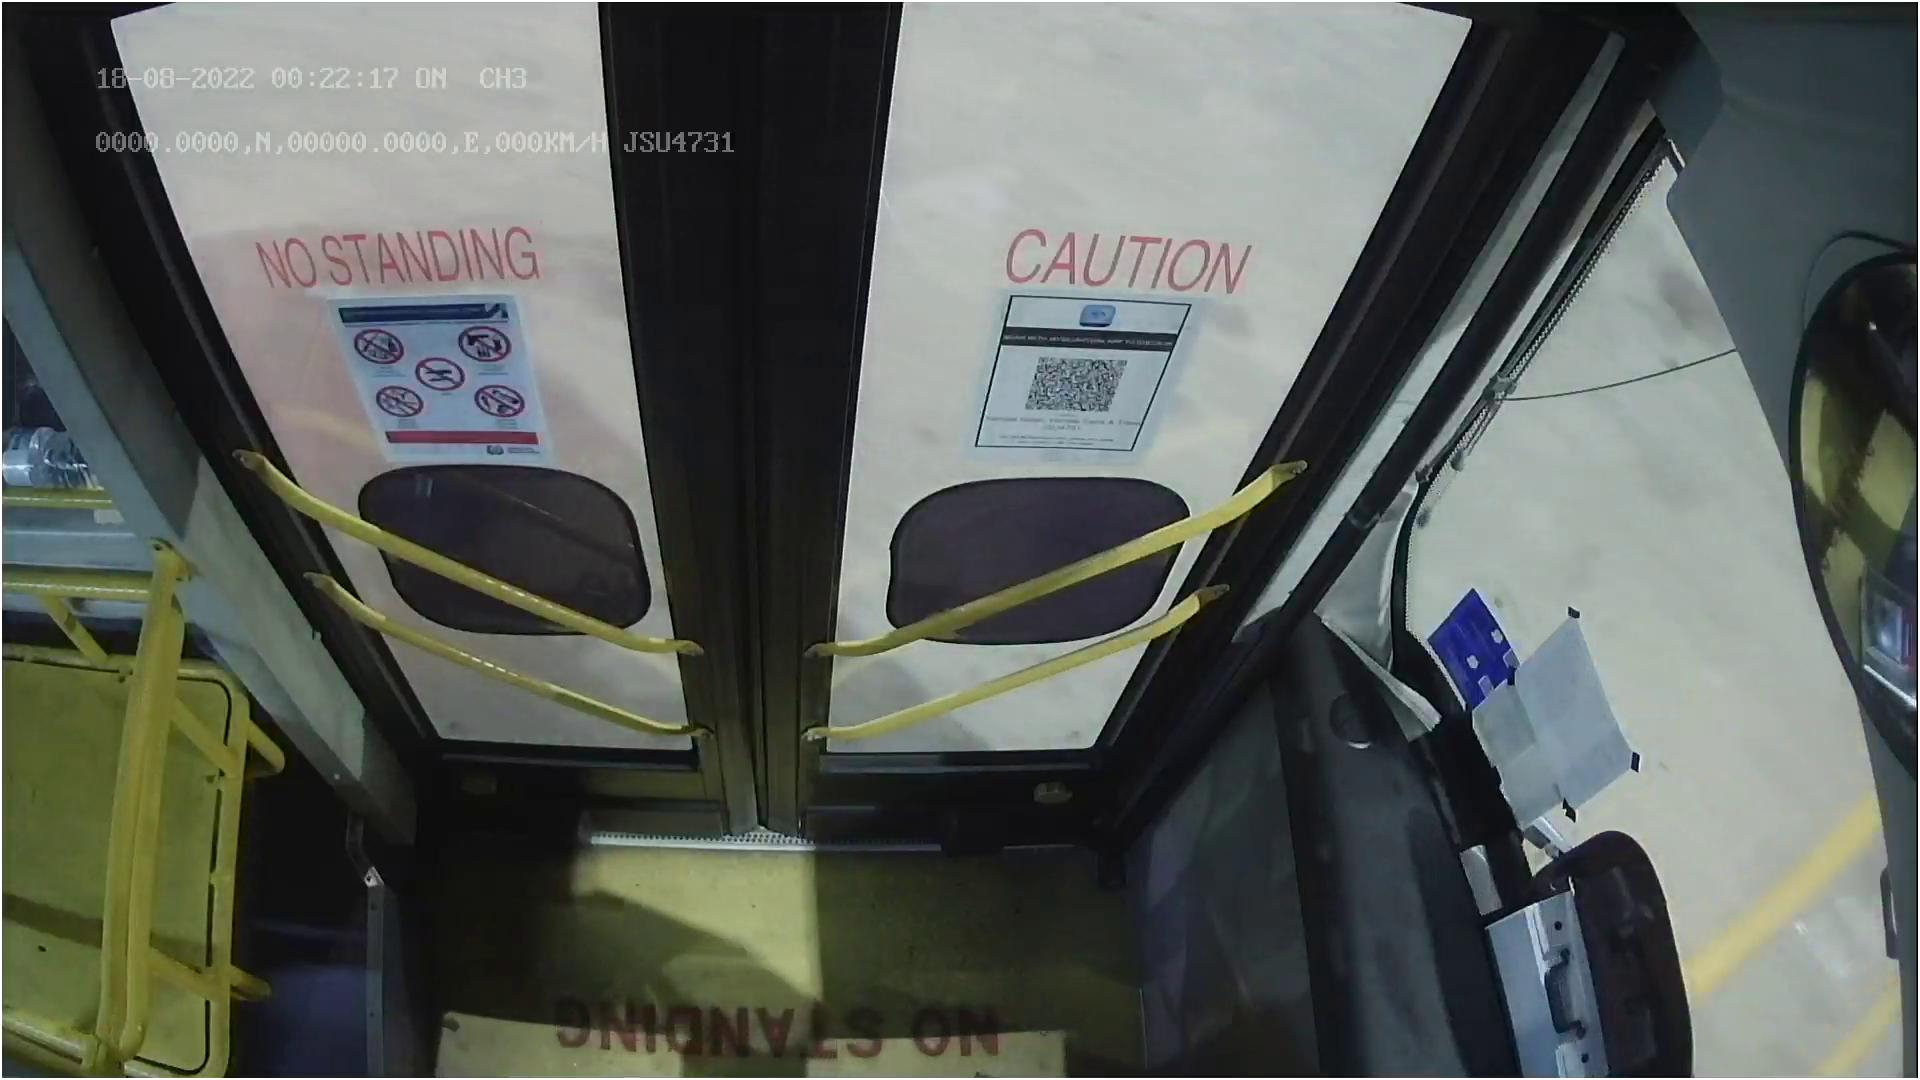close: (128, 0, 1452, 153)
